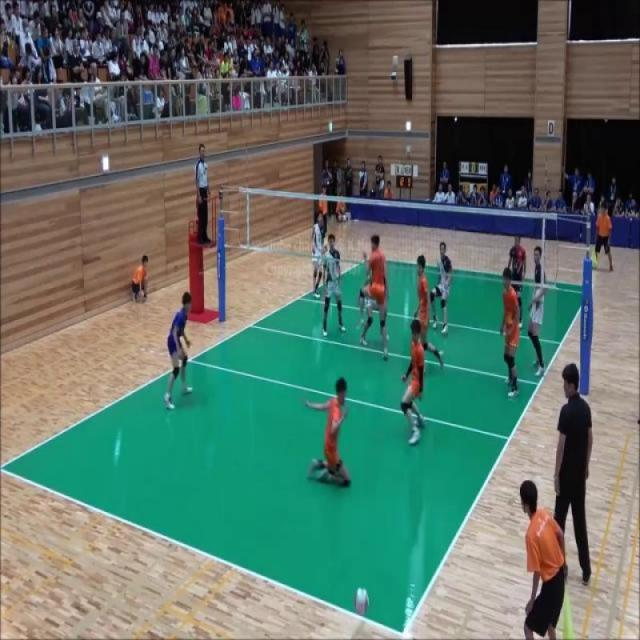volleyball: (354, 586, 371, 617), (342, 214, 347, 222)
